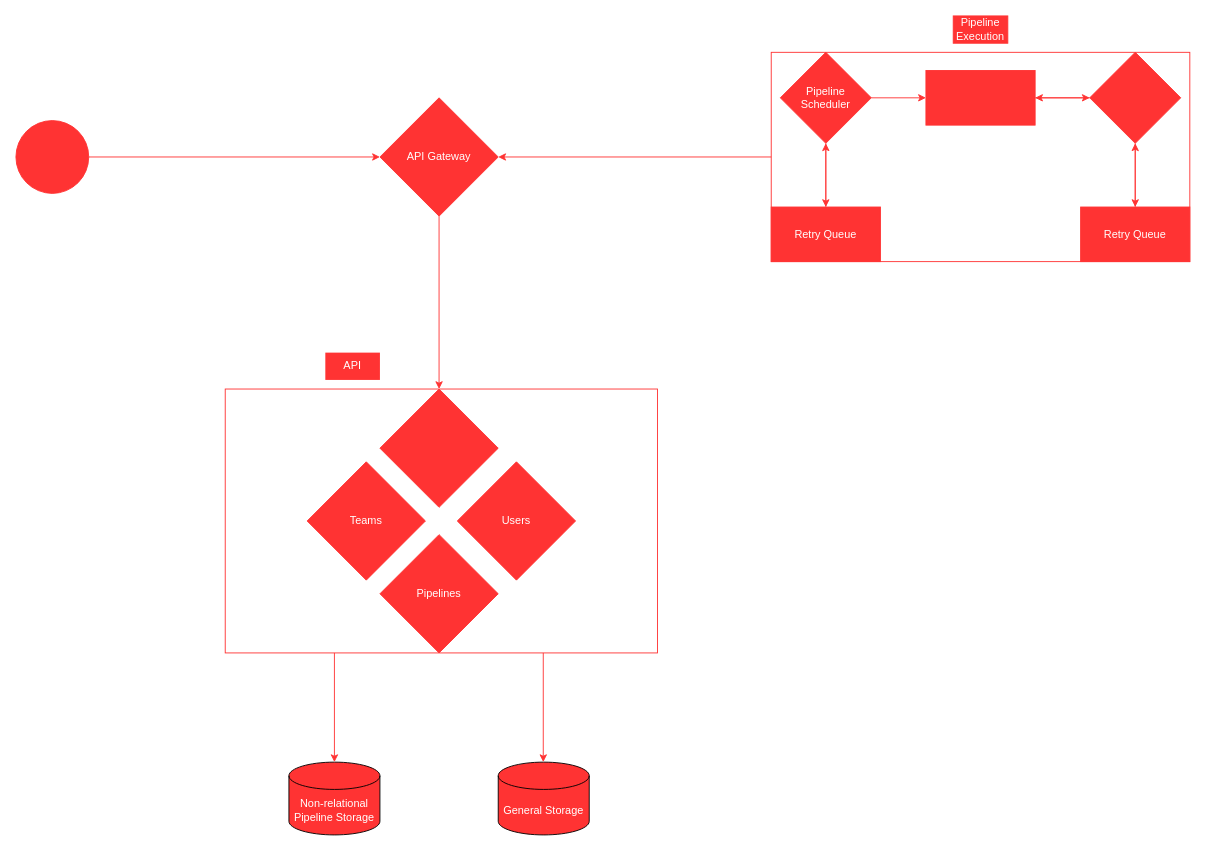
Some shapes in this 1206 by 851 pixel diagram are drawn without their labels. The shapes that lost their labels are listed below. From the top down, each one's centre as x and y in pixels, then its label:
At point 980,97: "Queue".
At point 1135,97: "Pipeline Executioner".
At point 52,156: "Clients".
At point 438,447: "Boards".
